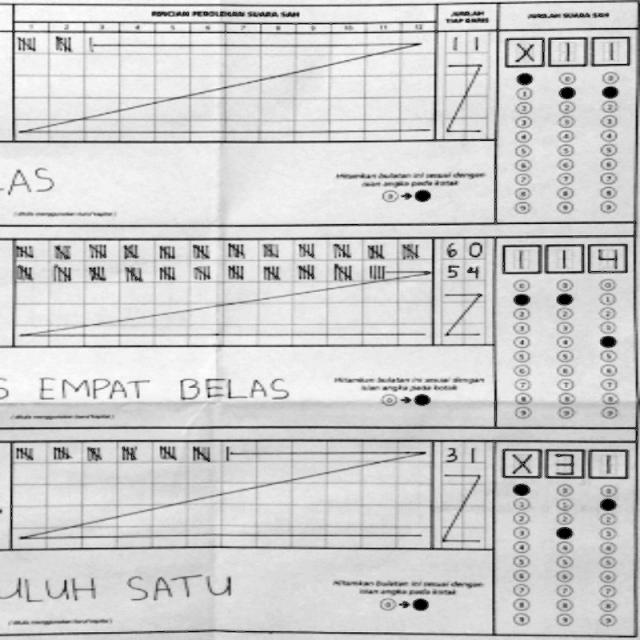Suara: (498, 443, 630, 484), (499, 31, 631, 67), (498, 241, 630, 275)
